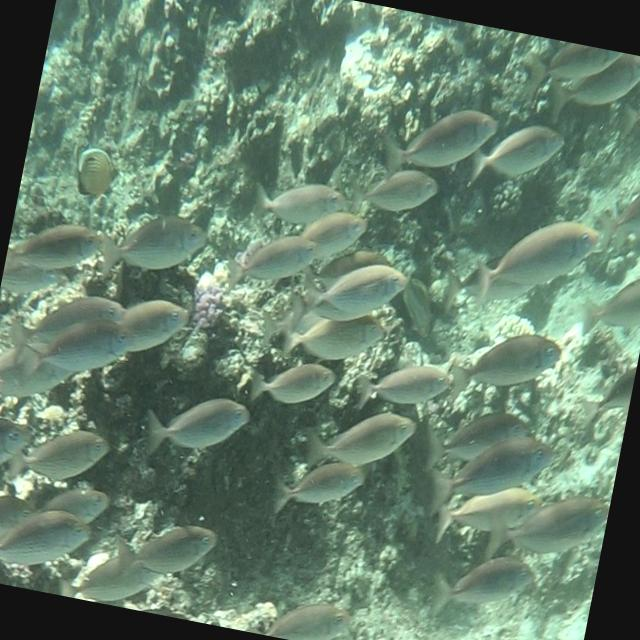Sokar Baligi: (464, 192, 610, 334), (374, 82, 506, 204), (90, 192, 216, 304), (106, 494, 230, 606)
